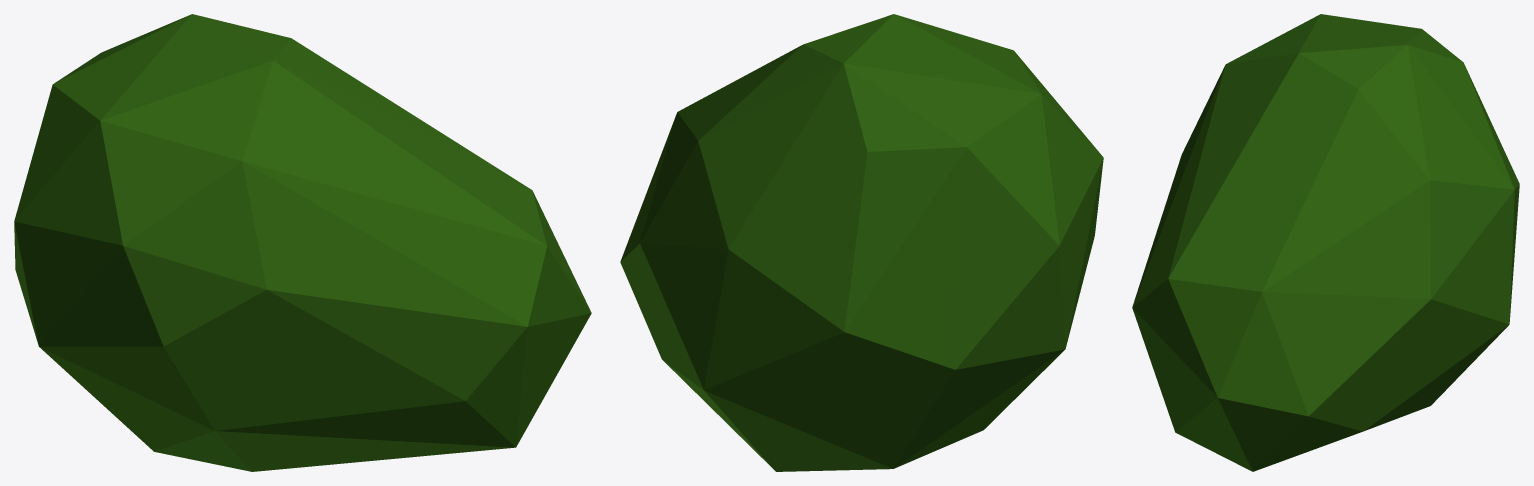
Rendered from Bush_3.glb.
3 views of the same model, side by side, from view 1: azimuth 30°, elevation 25°; view 2: azimuth 150°, elevation 25°; view 3: azimuth 270°, elevation 25° (orthographic). The views are drawn at different scales.
Parts seen in each view (by area): view 1: Bush_03; view 2: Bush_03; view 3: Bush_03.
Boxes of the visible parts, box(x1,y1,x2,y2) form: Bush_03: box(14, 14, 591, 471); Bush_03: box(620, 14, 1103, 471); Bush_03: box(1132, 14, 1519, 471).
Size of the model in its own units: 0.6801 by 0.5712 by 0.57.
